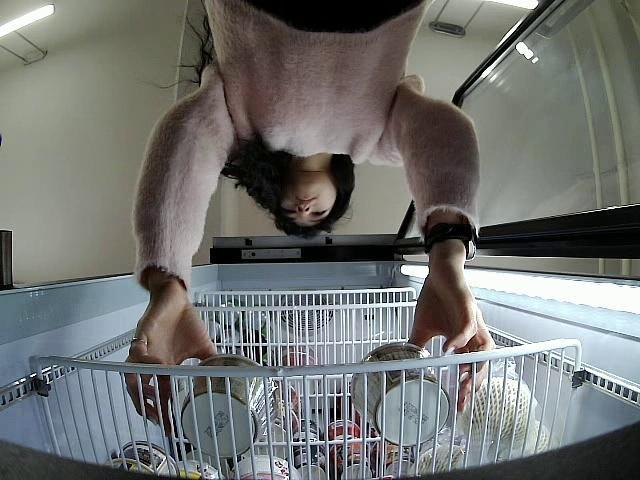04_chapagetti_S: (348, 342, 449, 448), (178, 355, 276, 458)
